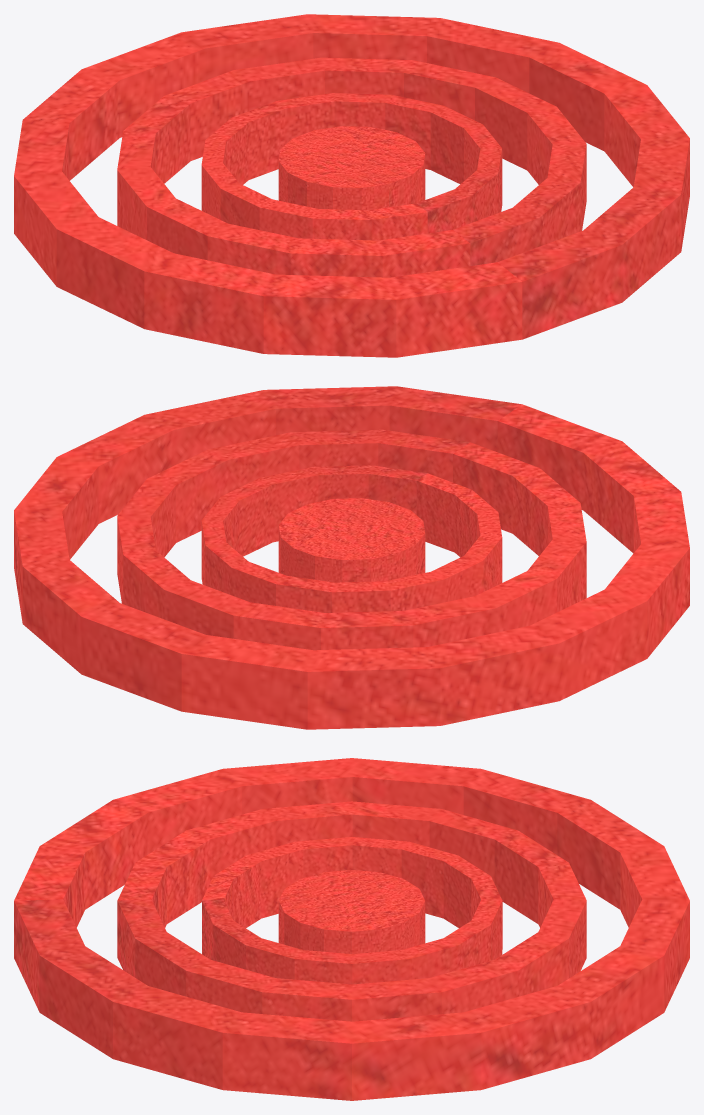
Rendered from redrings.glb.
3 renders of one model, top to bottom at view 1: azimuth 30°, elevation 25°; view 2: azimuth 150°, elevation 25°; view 3: azimuth 270°, elevation 25°, orthographic.
Parts seen in each view (by area): view 1: Circle; view 2: Circle; view 3: Circle.
Boxes of the visible parts, box(x1,y1,x2,y2) form: Circle: box(14, 14, 689, 357); Circle: box(14, 386, 689, 729); Circle: box(14, 758, 689, 1100).
Bounding box in the file's own units: 1.67 × 0.1604 × 1.67.
1 material, 1 textured.
